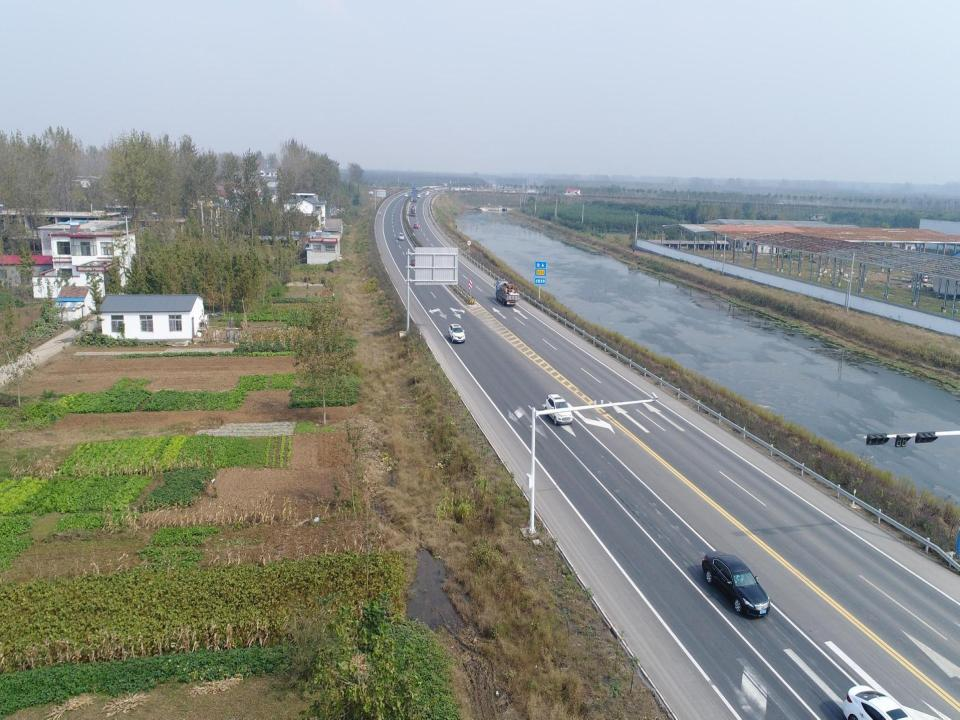car: (702, 551, 770, 619), (843, 685, 914, 719), (545, 394, 573, 426), (448, 324, 465, 344), (411, 256, 419, 268), (398, 233, 404, 240), (413, 223, 418, 229)
truck: (494, 280, 520, 306), (409, 204, 416, 217)
